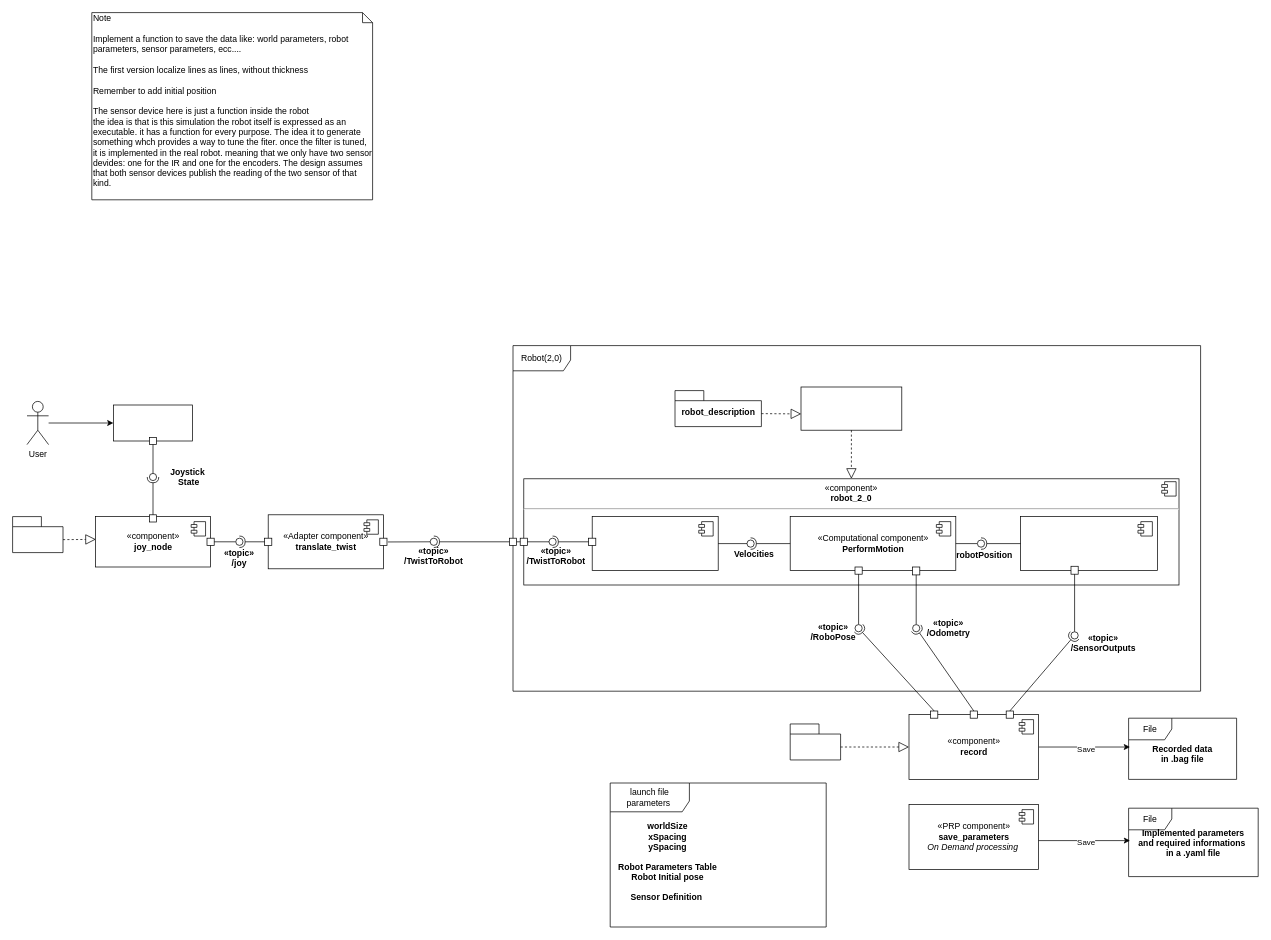
This 1271x940 diagram has some shape labels left out. Here are the shapes that lost their labels. From the top down, the centre of each, then its label:
point (153, 422): «interface» Joystick
point (851, 408): Class Robot(2,0) parameters
point (37, 534): Joy
point (654, 543): «Computation component» ComputeVelocities
point (1088, 543): «Computational component» SensorStatus
point (815, 741): rosbag
